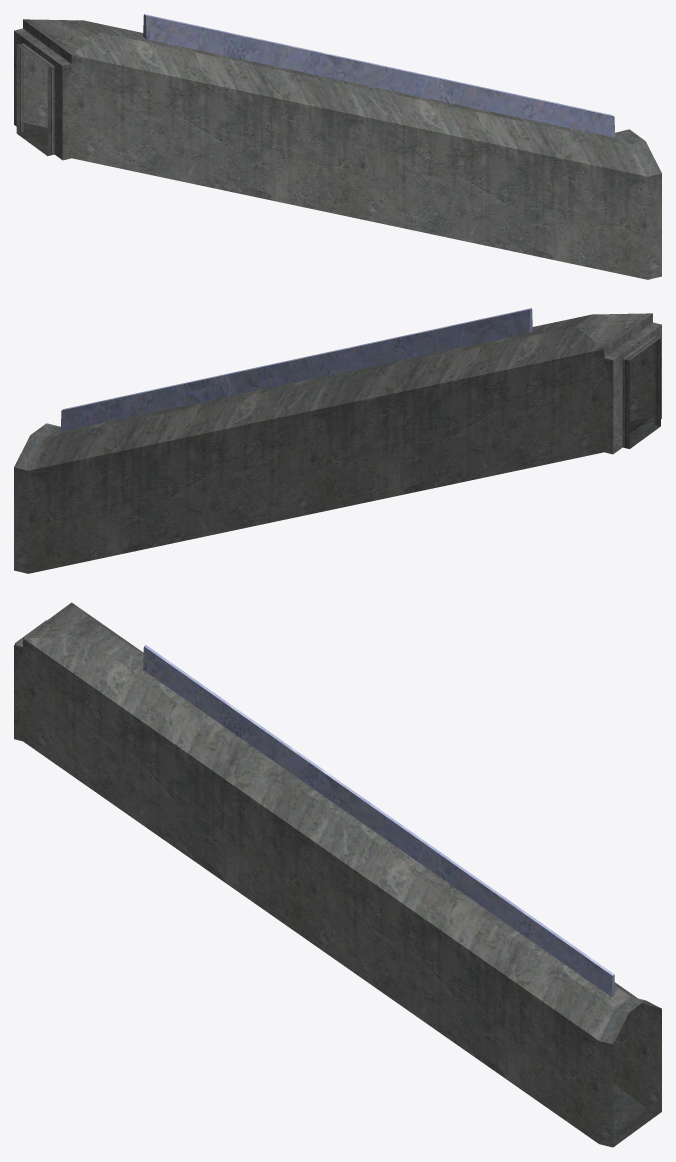
File: thm_yavn_jedi_enclave_dark_r1_ramp1_mesh.fbx
3 views of the same model, one above another, from view 1: azimuth 30°, elevation 25°; view 2: azimuth 150°, elevation 25°; view 3: azimuth 330°, elevation 25° (orthographic).
Parts seen in each view (by area): view 1: mesh_node; view 2: mesh_node; view 3: mesh_node.
Part boxes in pixels (x1=…): mesh_node: x1=14, y1=14, x2=661, y2=279; mesh_node: x1=14, y1=308, x2=661, y2=573; mesh_node: x1=14, y1=602, x2=661, y2=1147.
Size of the model in its own units: 21.51 by 12.39 by 3.
